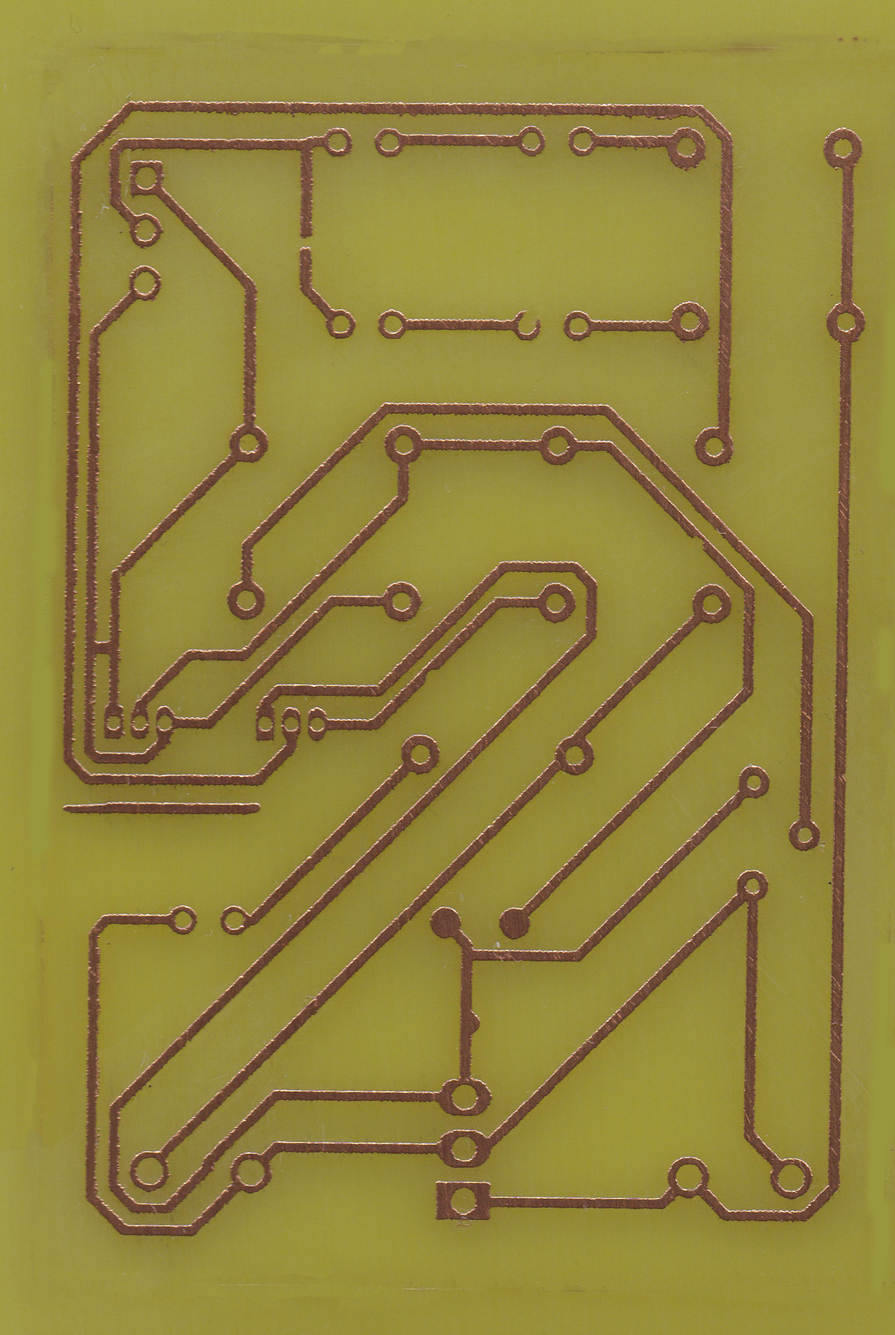missing_hole: (510, 307, 544, 343)
mouse_bite: (421, 662, 443, 687), (686, 530, 710, 552)
open_circuit: (295, 228, 315, 258)
short: (83, 632, 123, 661)
spur: (457, 1008, 483, 1040)
spurious_copper: (59, 795, 266, 820)
